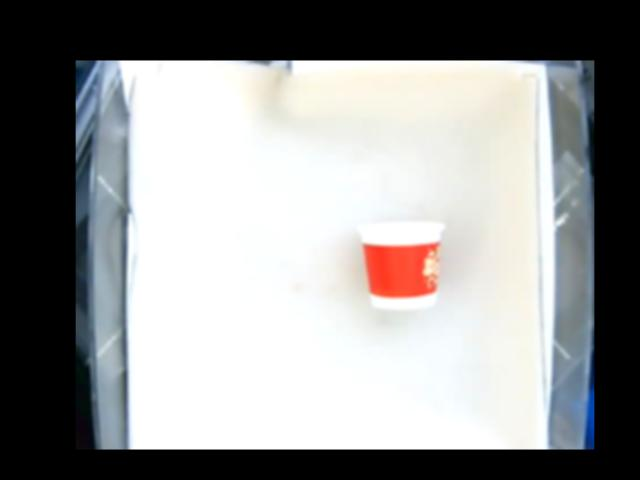Cup: (361, 219, 443, 308)
